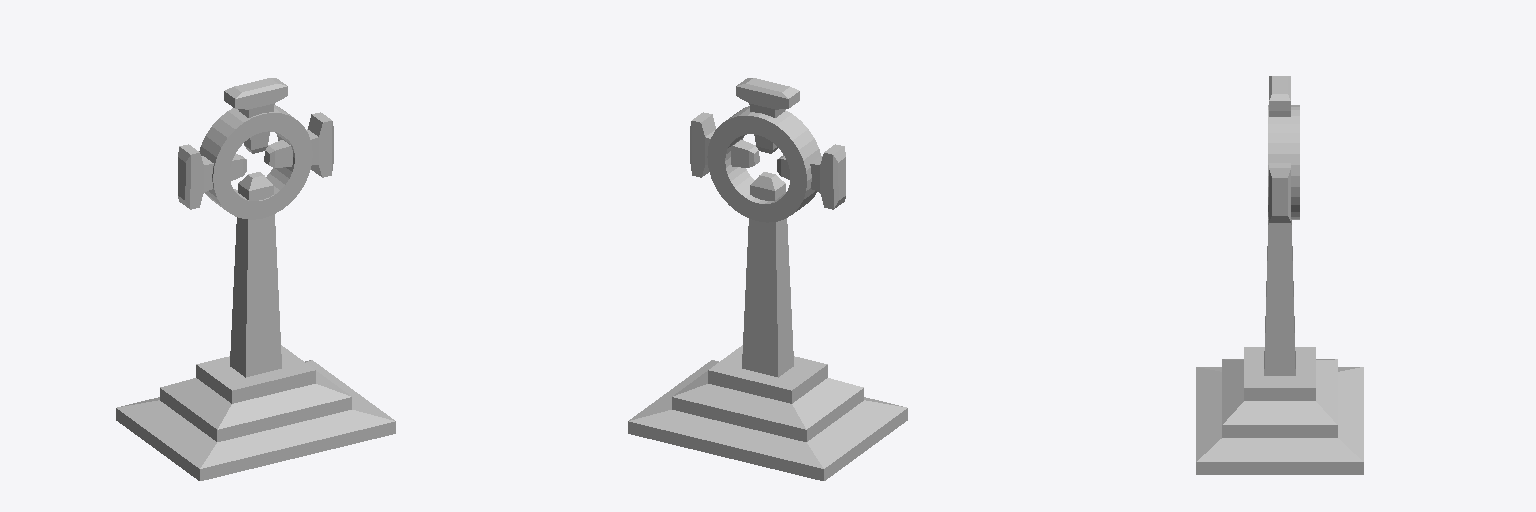
Rendered from Cross.obj.
3 views of the same model, side by side, from view 1: azimuth 30°, elevation 25°; view 2: azimuth 150°, elevation 25°; view 3: azimuth 270°, elevation 25° (orthographic).
Parts seen in each view (by area): view 1: Cross; view 2: Cross; view 3: Cross.
Boxes of the visible parts, x1,y1,x2,y2 form: Cross: [116, 78, 395, 480]; Cross: [628, 78, 907, 480]; Cross: [1196, 76, 1363, 474].
Bounding box in the file's own units: 2.81 × 4.67 × 2.08.